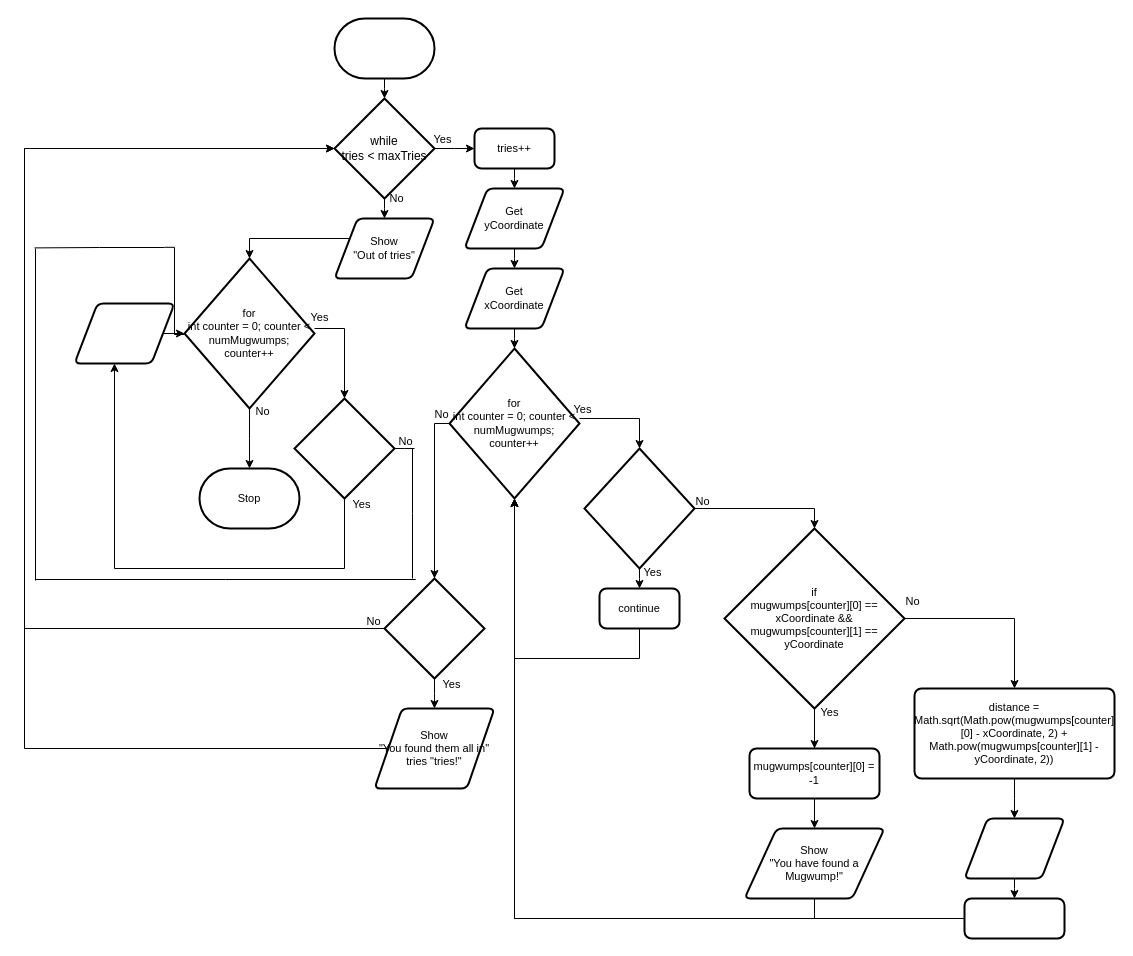
This 1133x956 diagram has some shape labels left out. The centre of each missing label's shape, as x and y in pixels:
foundAll = false: point (1014, 918)
if foundAll = true: point (434, 628)
if mugwumps[counter][0] != -1: point (344, 448)
if mugwumps[counter][0] == -1: point (639, 508)
Show "Mugwump position": point (124, 333)
Show distance: point (1014, 848)
Start: point (384, 48)
